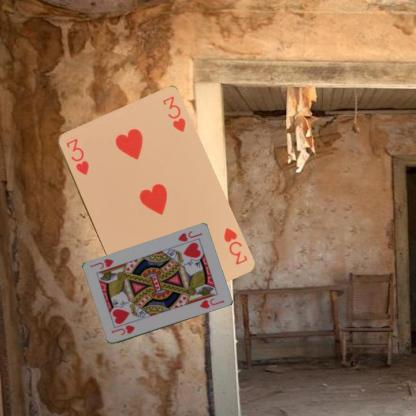3h: (221, 225, 248, 266), (63, 136, 90, 176)
Jh: (108, 322, 136, 336), (175, 229, 203, 243)
